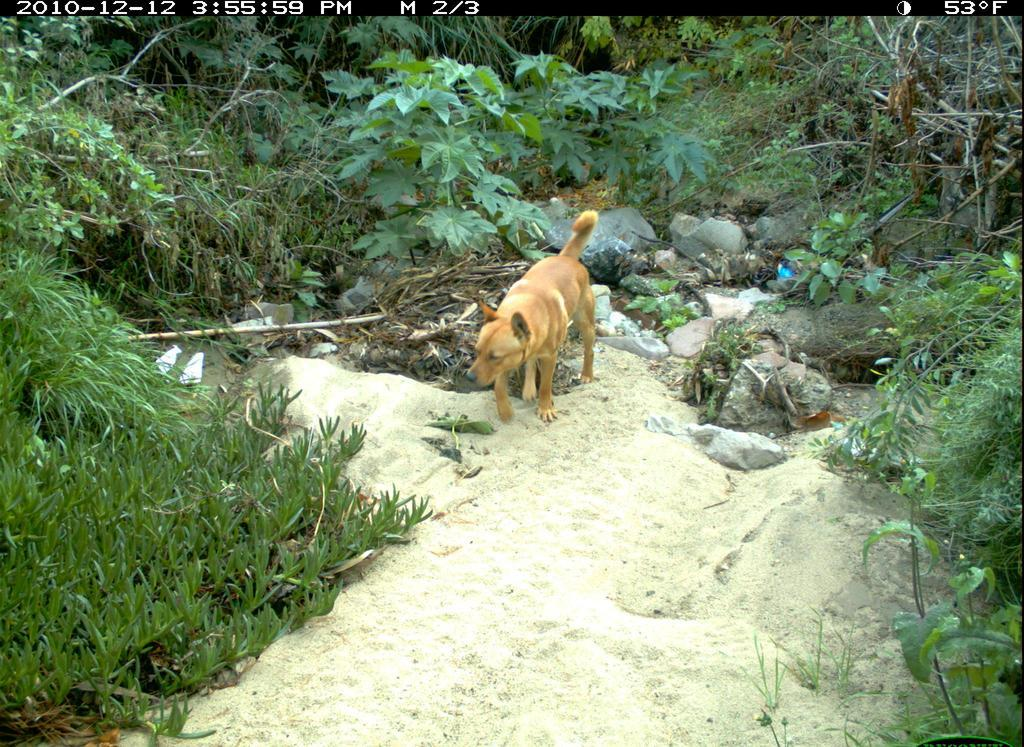dog: (461, 207, 606, 431)
